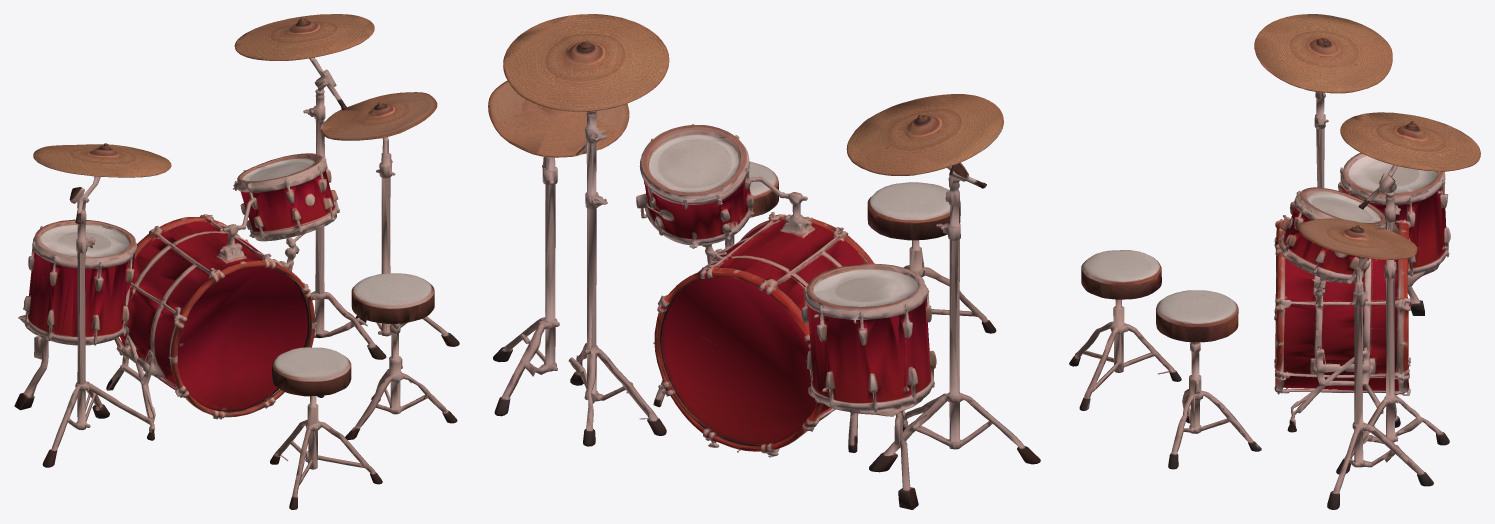
The model's file is JazzDrumKit_Game.fbx.
3 renders of one model, left to right at view 1: azimuth 30°, elevation 25°; view 2: azimuth 150°, elevation 25°; view 3: azimuth 270°, elevation 25°, orthographic. The views are drawn at different scales.
Parts seen in each view (by area): view 1: output_unwrapped; view 2: output_unwrapped; view 3: output_unwrapped.
Part boxes in pixels (box(x1,y1,x2,y2)): output_unwrapped: box(14, 14, 459, 509); output_unwrapped: box(488, 14, 1040, 509); output_unwrapped: box(1069, 14, 1480, 509).
Size of the model in its own units: 190 by 135 by 152.
Materials: 1 (1 with a texture image).
